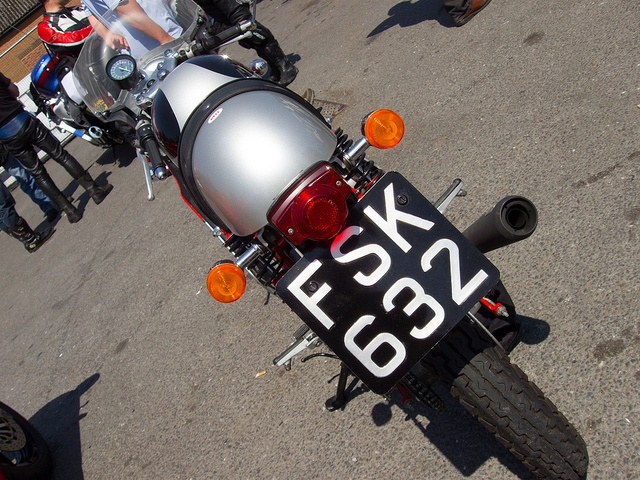non-vehicle: (71, 0, 588, 480), (29, 52, 123, 163), (0, 394, 48, 473)
